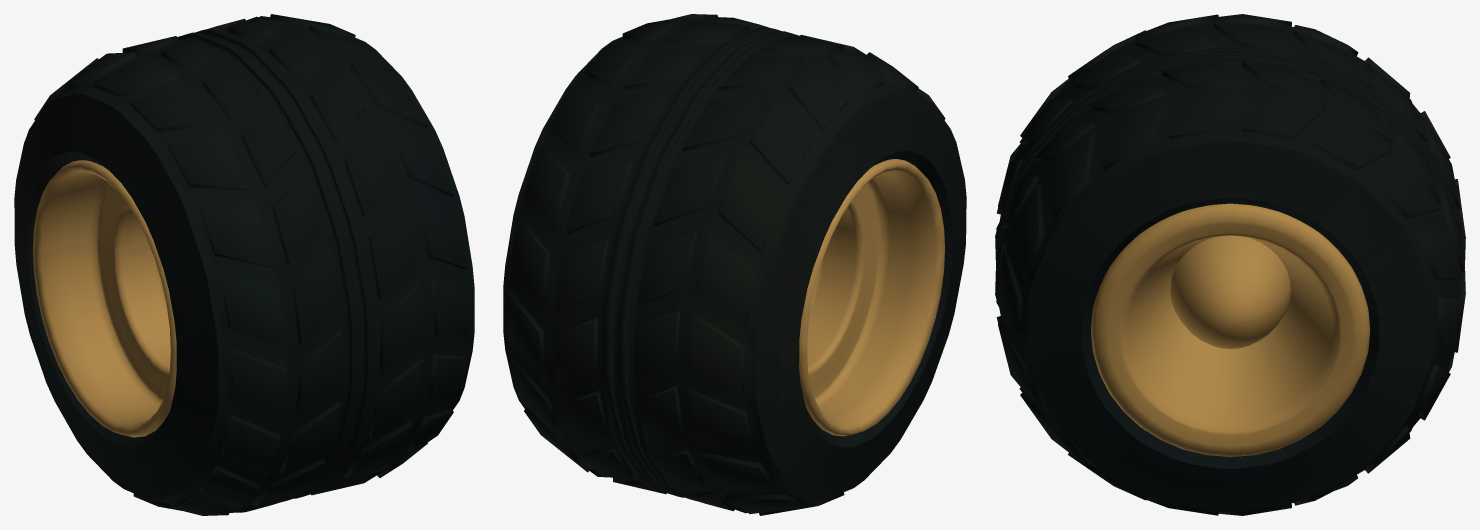
File: tyre.fbx
3 renders of one model, left to right at view 1: azimuth 30°, elevation 25°; view 2: azimuth 150°, elevation 25°; view 3: azimuth 270°, elevation 25°, orthographic.
Parts seen in each view (by area): view 1: kart.035; view 2: kart.035; view 3: kart.035.
Boxes of the visible parts, x1,y1,x2,y2 form: kart.035: [14, 14, 474, 515]; kart.035: [503, 14, 966, 515]; kart.035: [995, 14, 1465, 515].
Bounding box in the file's own units: 1438 × 2073 × 2071.
1 material, 1 textured.
